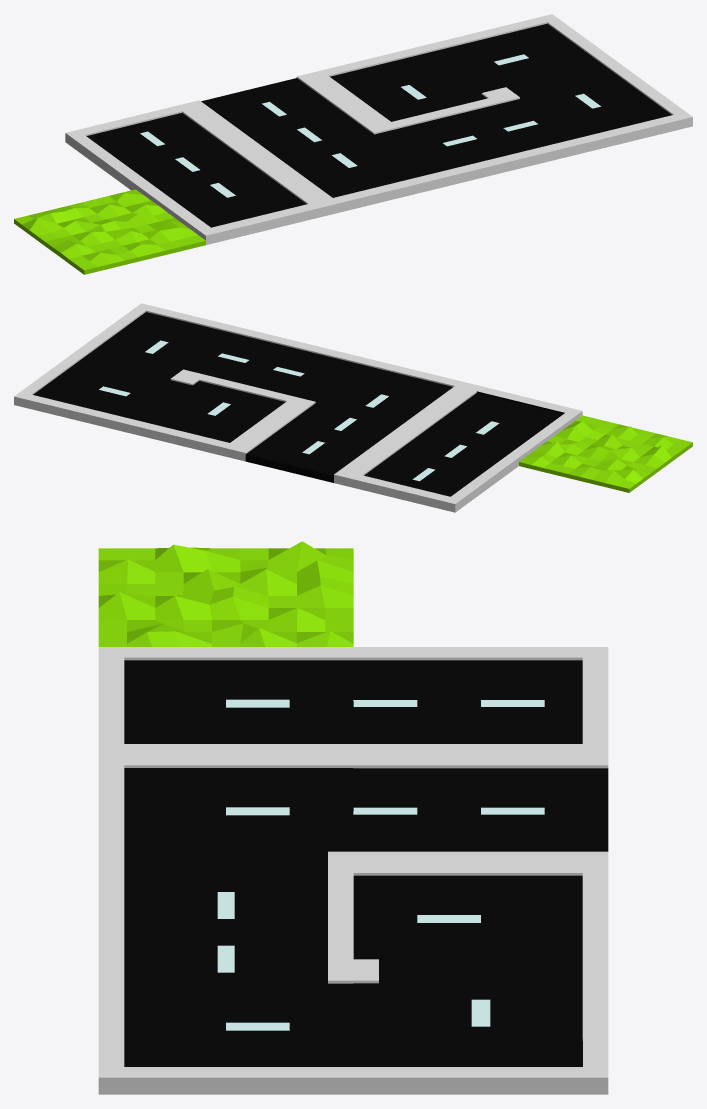
File: road_gridmap.glb
3 views of the same model, one above another, from view 1: azimuth 30°, elevation 25°; view 2: azimuth 150°, elevation 25°; view 3: azimuth 270°, elevation 25° (orthographic). The views are drawn at different scales.
Parts seen in each view (by area): view 1: EndFront, Straight_Left, Curve_Right, Curve_Left, Grass, EndBack, Curve_Right_Side, Straight_Front, Curve_Left_Side; view 2: EndBack, Curve_Right_Side, Straight_Front, Curve_Left_Side, Grass, EndFront, Curve_Right, Straight_Left, Curve_Left; view 3: Curve_Right, Curve_Right_Side, Curve_Left, Curve_Left_Side, Straight_Front, Straight_Left, EndFront, EndBack, Grass.
Boxes of the visible parts, x1=… form: EndFront: x1=135, y1=154, x2=327, y2=244; Straight_Left: x1=380, y1=95, x2=571, y2=185; Curve_Right: x1=501, y1=65, x2=692, y2=155; Curve_Left: x1=258, y1=125, x2=449, y2=215; Grass: x1=14, y1=189, x2=205, y2=274; EndBack: x1=65, y1=103, x2=256, y2=190; Curve_Right_Side: x1=431, y1=14, x2=622, y2=94; Straight_Front: x1=187, y1=73, x2=378, y2=154; Curve_Left_Side: x1=309, y1=44, x2=500, y2=124; EndBack: x1=345, y1=430, x2=518, y2=512; Curve_Right_Side: x1=14, y1=350, x2=187, y2=431; Straight_Front: x1=234, y1=404, x2=407, y2=485; Curve_Left_Side: x1=124, y1=377, x2=297, y2=458; Grass: x1=519, y1=415, x2=692, y2=492; EndFront: x1=409, y1=384, x2=582, y2=461; Curve_Right: x1=78, y1=303, x2=251, y2=376; Straight_Left: x1=188, y1=330, x2=361, y2=403; Curve_Left: x1=298, y1=357, x2=471, y2=430; Curve_Right: x1=98, y1=970, x2=353, y2=1094; Curve_Right_Side: x1=353, y1=970, x2=608, y2=1094; Curve_Left: x1=98, y1=754, x2=353, y2=864; Curve_Left_Side: x1=353, y1=862, x2=608, y2=972; Straight_Front: x1=353, y1=754, x2=608, y2=862; Straight_Left: x1=98, y1=862, x2=353, y2=972; EndFront: x1=98, y1=647, x2=353, y2=754; EndBack: x1=353, y1=647, x2=608, y2=754; Grass: x1=98, y1=541, x2=353, y2=646.
Size of the model in its own units: 45.72 by 0.9363 by 18.29.
